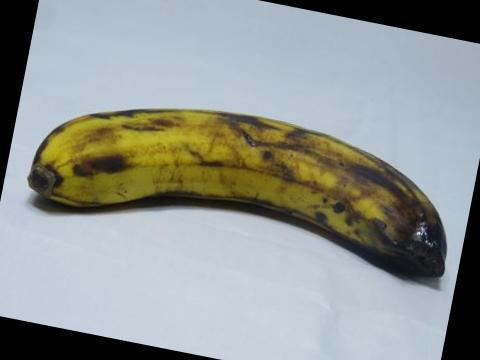overripe: (23, 87, 472, 305)
rotten: (370, 183, 468, 297)
